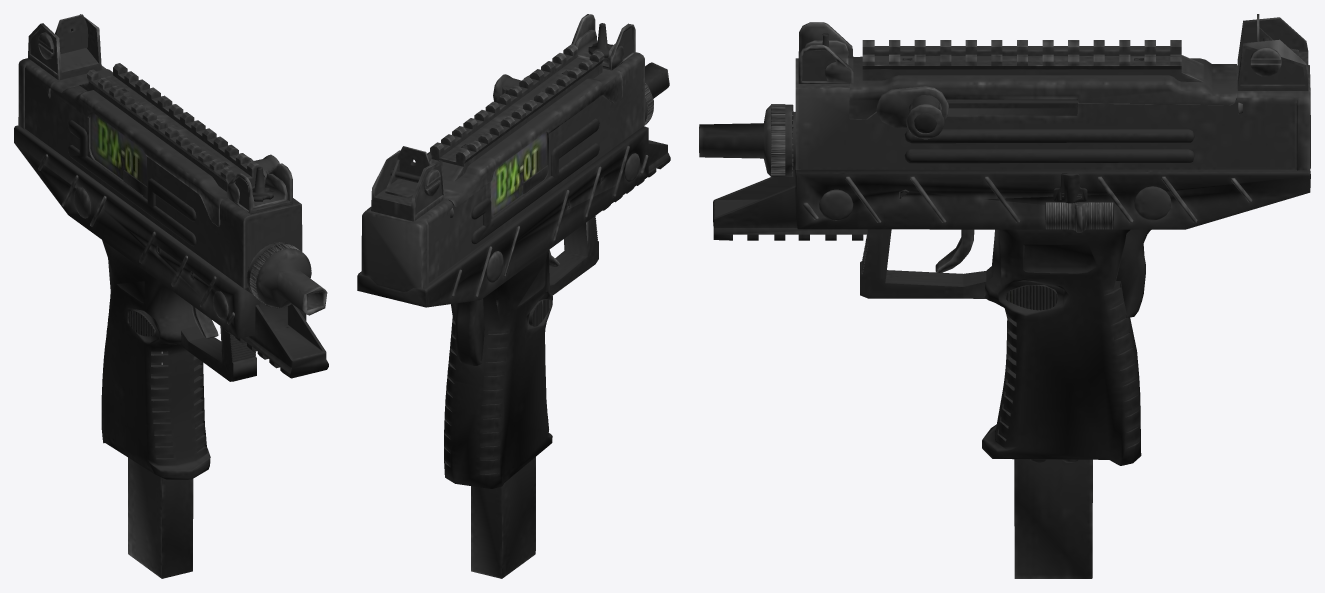
File: uzi.glb
The picture shows the model from 3 angles, left to right: view 1: azimuth 30°, elevation 25°; view 2: azimuth 150°, elevation 25°; view 3: azimuth 270°, elevation 25°; orthographic projection. The views are drawn at different scales.
Parts seen in each view (by area): view 1: Object_10, Object_5, Object_7, Object_11, Object_6, Object_2, Object_14, Object_13, Object_9; view 2: Object_10, Object_5, Object_7, Object_11, Object_14, Object_2, Object_13, Object_6, Object_9; view 3: Object_10, Object_5, Object_11, Object_7, Object_6, Object_9, Object_4, Object_2, Object_13, Object_14, Object_8, Object_3.
Boxes of the visible parts, x1,y1,x2,y2 form: Object_10: (14, 125, 328, 479); Object_5: (18, 58, 302, 578); Object_7: (28, 14, 287, 208); Object_11: (50, 69, 292, 226); Object_6: (246, 242, 327, 315); Object_2: (90, 112, 218, 338); Object_14: (68, 120, 228, 319); Object_13: (38, 154, 234, 324); Object_9: (90, 154, 279, 226); Object_10: (357, 23, 670, 488); Object_5: (361, 52, 644, 578); Object_7: (371, 29, 615, 221); Object_11: (427, 14, 635, 207); Object_14: (471, 118, 640, 244); Object_2: (491, 132, 559, 326); Object_13: (452, 145, 648, 297); Object_6: (645, 62, 669, 124); Object_9: (493, 74, 529, 277); Object_10: (713, 33, 1310, 465); Object_5: (795, 58, 1310, 578); Object_11: (798, 22, 1252, 222); Object_7: (804, 14, 1308, 90); Object_6: (699, 104, 795, 177); Object_9: (876, 86, 948, 139); Object_4: (1045, 202, 1113, 232); Object_2: (935, 229, 1077, 462); Object_13: (819, 186, 1171, 220); Object_14: (947, 100, 1077, 108); Object_8: (914, 35, 1281, 133); Object_3: (1053, 173, 1087, 203).
Size of the model in its own units: 0.4247 by 1.97 by 1.98.
1 material, 1 textured.
